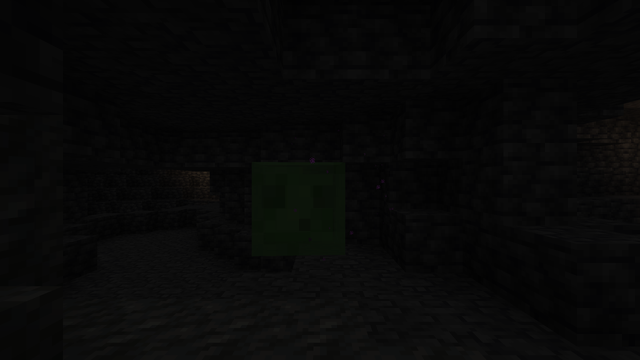slimes: (247, 158, 344, 255)
